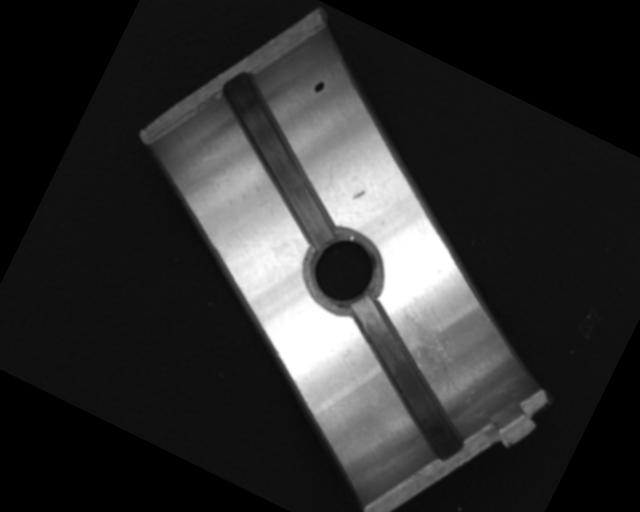blot: (311, 79, 326, 96)
bruise: (351, 186, 367, 204)
gap: (184, 72, 375, 248), (310, 294, 499, 466)
hole: (291, 218, 395, 325)
scratch: (372, 302, 481, 400)
